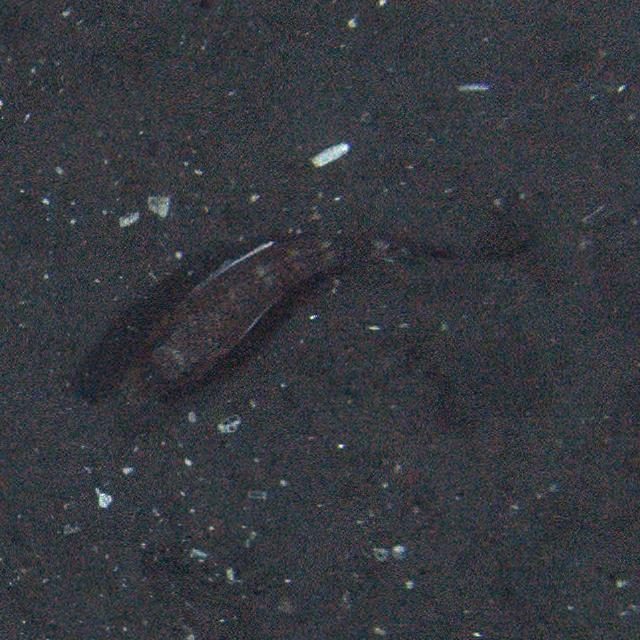roundfish: (118, 221, 480, 410)
